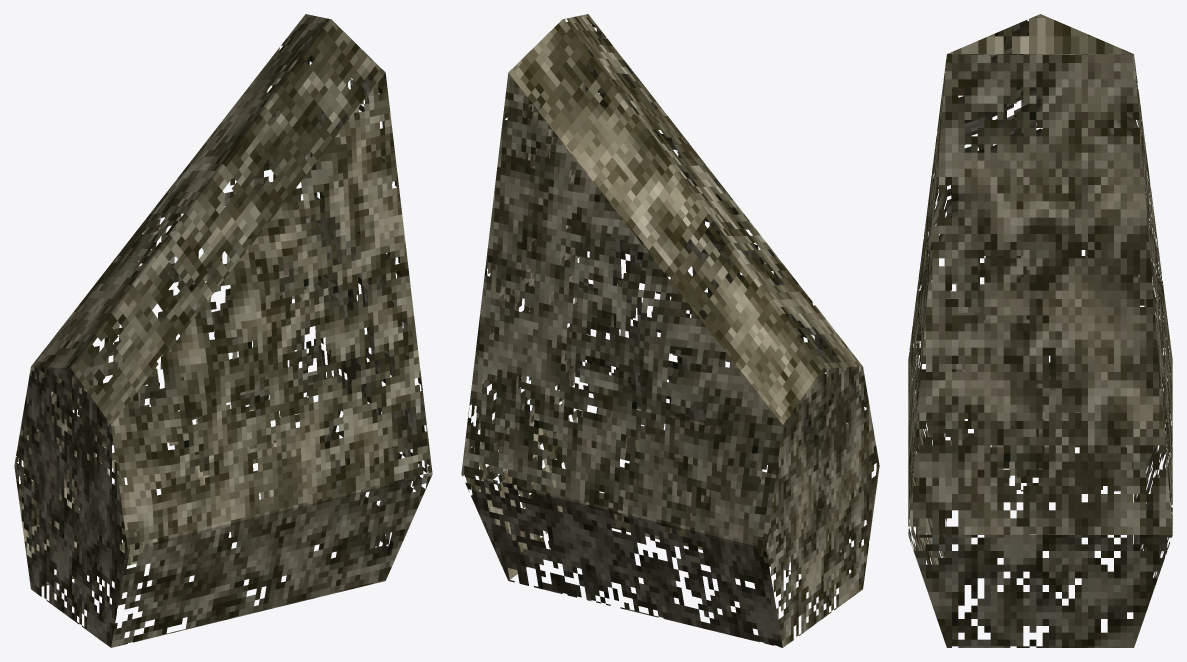
File: bush_connector_high_half_end_dead.glb
3 views of the same model, side by side, from view 1: azimuth 30°, elevation 25°; view 2: azimuth 150°, elevation 25°; view 3: azimuth 270°, elevation 25° (orthographic). The views are drawn at different scales.
Parts seen in each view (by area): view 1: bush_connector_high_half_end_dead; view 2: bush_connector_high_half_end_dead; view 3: bush_connector_high_half_end_dead.
Part boxes in pixels (box(x1,y1,x2,y2)): bush_connector_high_half_end_dead: box(14, 14, 432, 647); bush_connector_high_half_end_dead: box(461, 14, 879, 647); bush_connector_high_half_end_dead: box(908, 14, 1172, 647).
Bounding box in the file's own units: 1.12 × 1.88 × 0.7191.
Materials: 1 (1 with a texture image).
